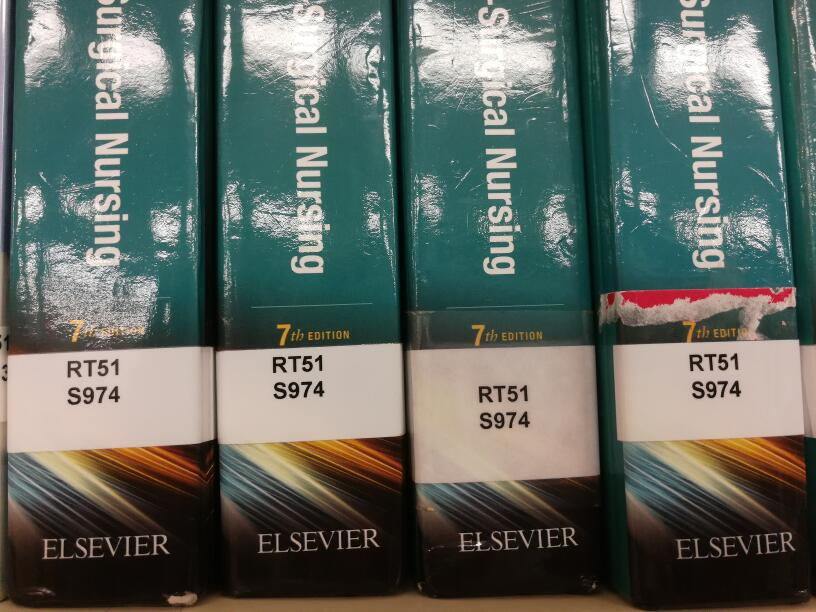booklabel: (62, 356, 122, 408), (688, 350, 745, 401), (268, 353, 327, 400), (477, 382, 533, 430)
